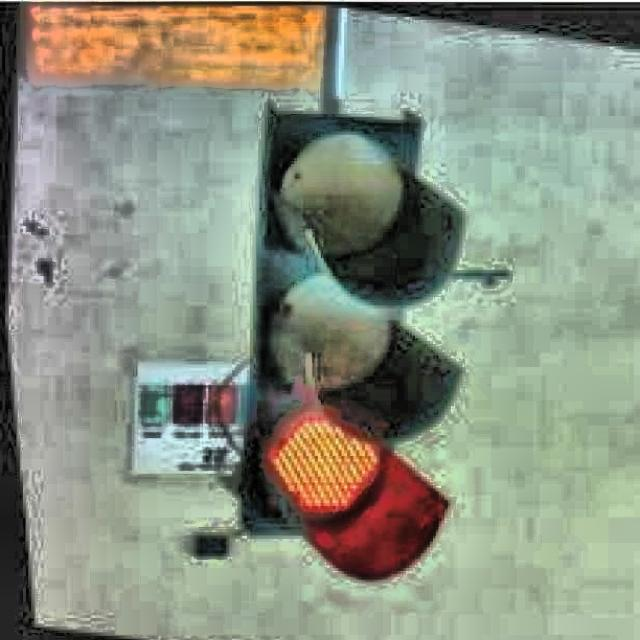red: (262, 112, 440, 554)
